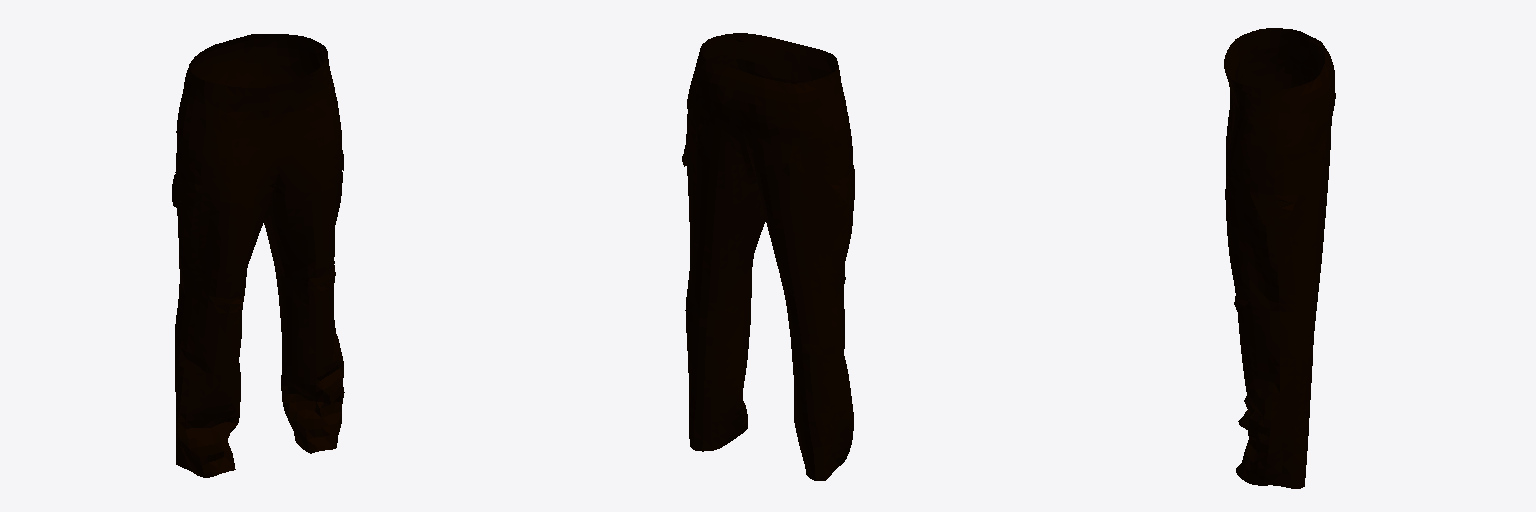
The model's file is pants_brown.obj.
The picture shows the model from 3 angles: view 1: azimuth 30°, elevation 25°; view 2: azimuth 150°, elevation 25°; view 3: azimuth 270°, elevation 25°; orthographic projection.
Visible parts, largest first — view 1: CAMO_PANTS_Untitled; view 2: CAMO_PANTS_Untitled; view 3: CAMO_PANTS_Untitled.
Part boxes in pixels (x1,y1,x2,y2): CAMO_PANTS_Untitled: (172, 34, 344, 477); CAMO_PANTS_Untitled: (682, 33, 854, 480); CAMO_PANTS_Untitled: (1224, 28, 1335, 488).
Bounding box in the file's own units: 0.7836 × 1.83 × 0.4602.